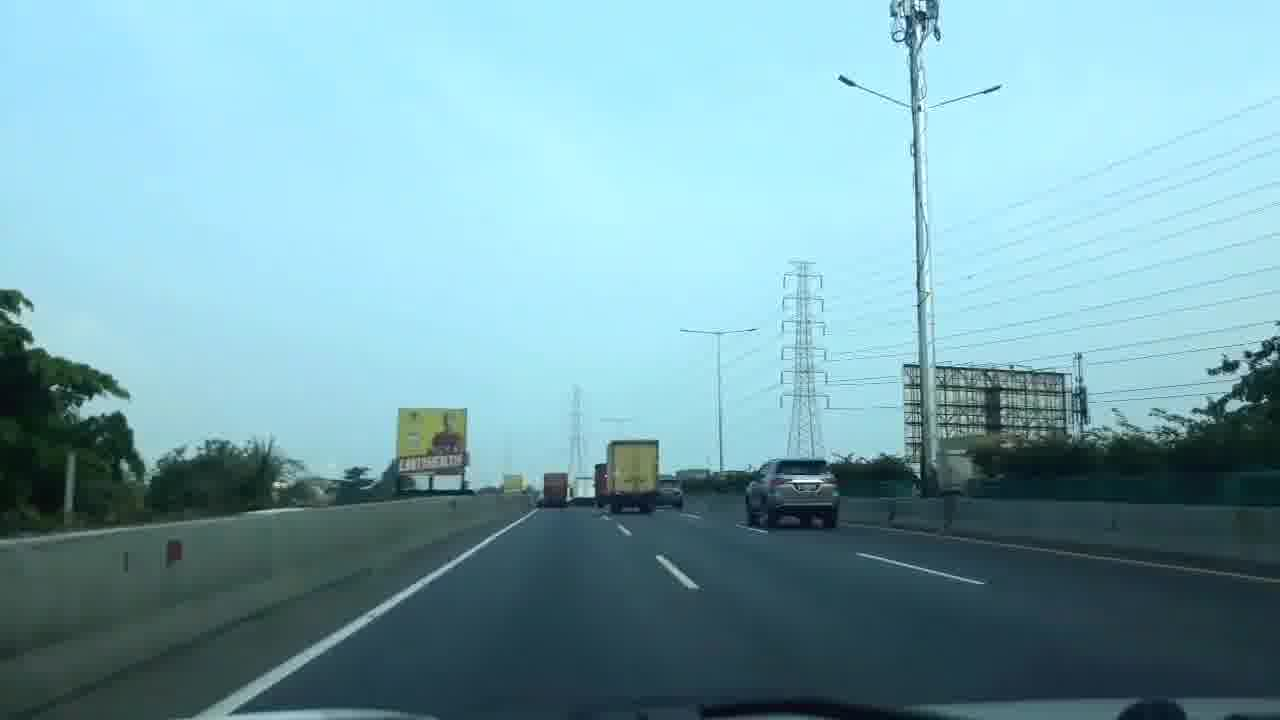plate_positive: (798, 484, 817, 491)
